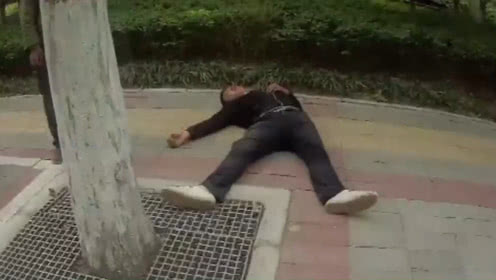fall: (151, 72, 390, 217)
